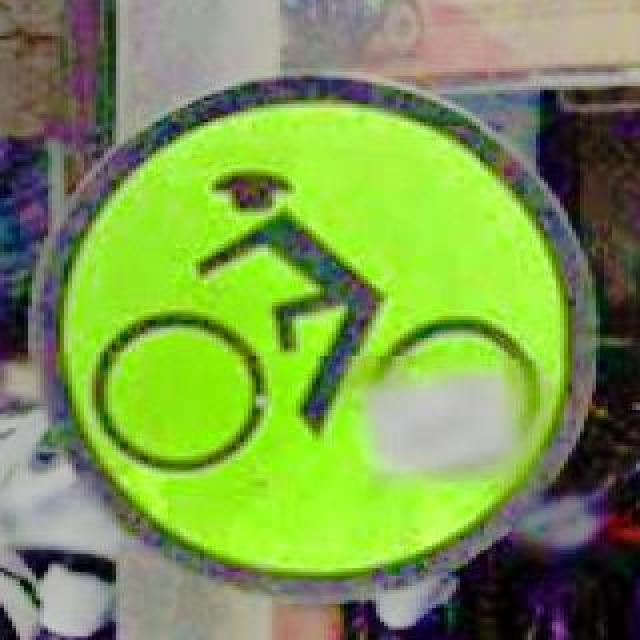bike lane: (24, 68, 596, 596)
